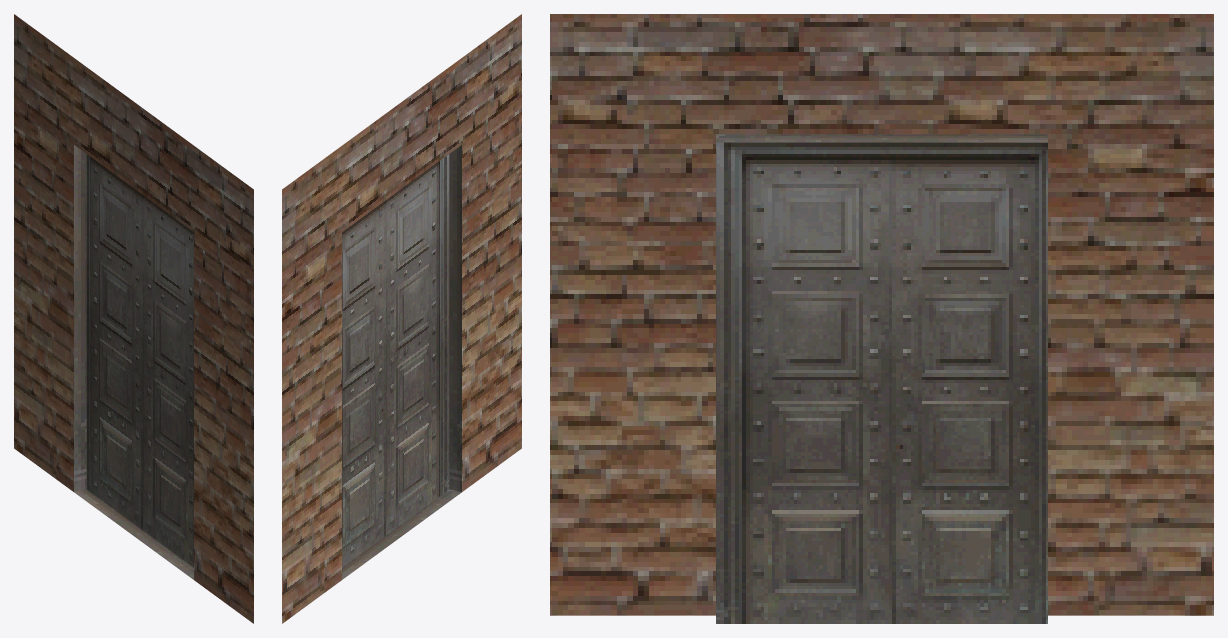
Rendered from brick_wall_metal_door_indent.glb.
3 views of the same model, side by side, from view 1: azimuth 30°, elevation 25°; view 2: azimuth 150°, elevation 25°; view 3: azimuth 270°, elevation 25° (orthographic). The views are drawn at different scales.
Parts seen in each view (by area): view 1: brick_wall_metal_door_indent; view 2: brick_wall_metal_door_indent; view 3: brick_wall_metal_door_indent.
Part boxes in pixels (<box>): brick_wall_metal_door_indent: <box>14,14,253,623</box>; brick_wall_metal_door_indent: <box>282,14,521,623</box>; brick_wall_metal_door_indent: <box>550,14,1213,623</box>.
Bounding box in the file's own units: 0.0907 × 3 × 3.
Materials: 1 (1 with a texture image).
